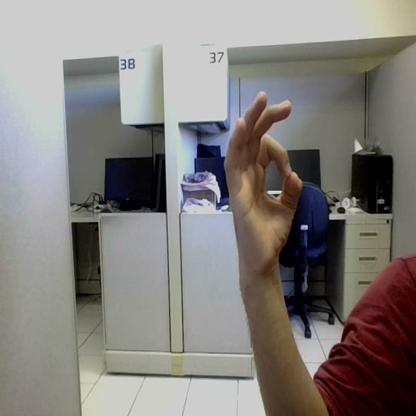F: (224, 90, 304, 274)
